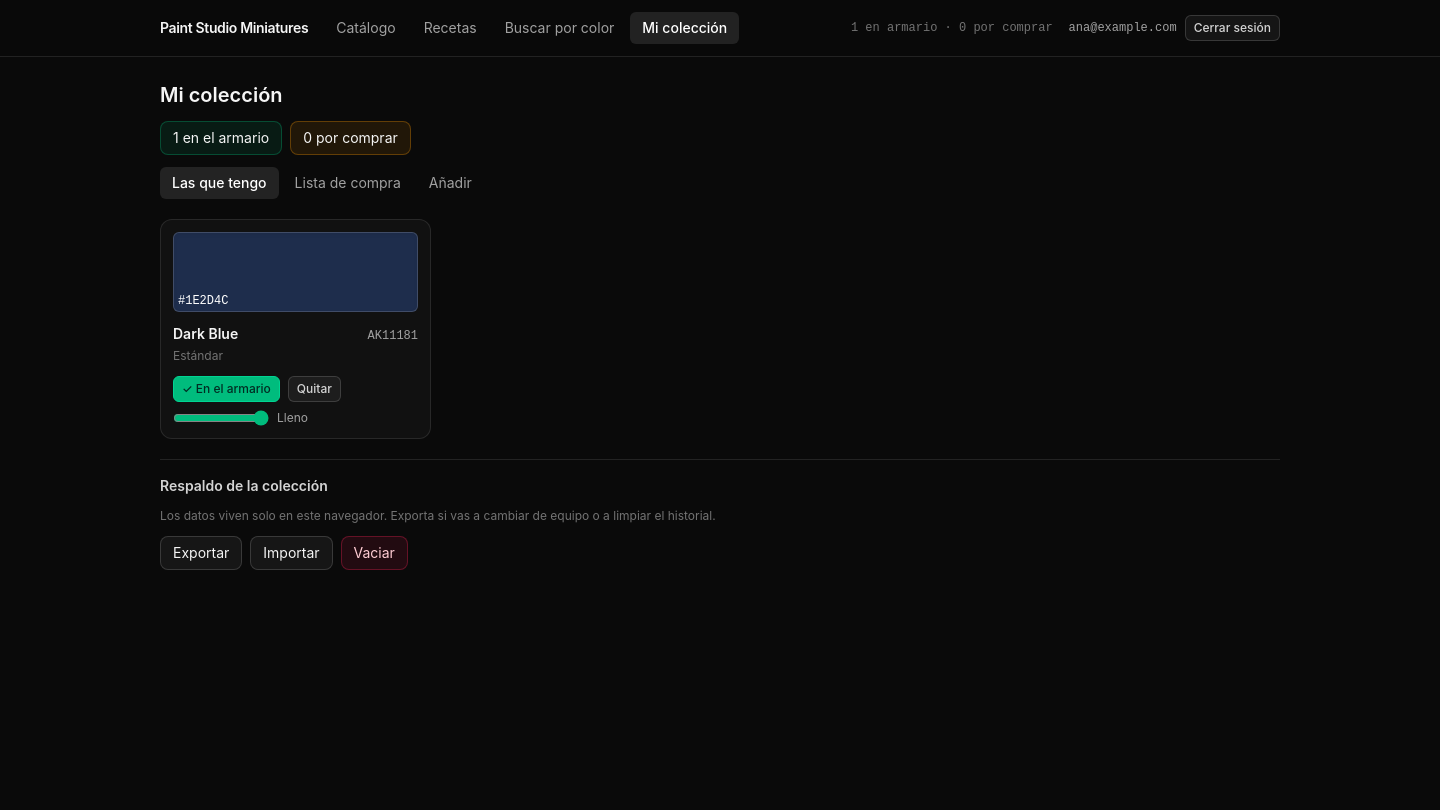
Test case: App con backend › cerrar sesión vuelve a mostrar lo local, intacto
Step 1. Click the button "Cerrar sesión" → (1232, 28), box [1185, 15, 1280, 41]
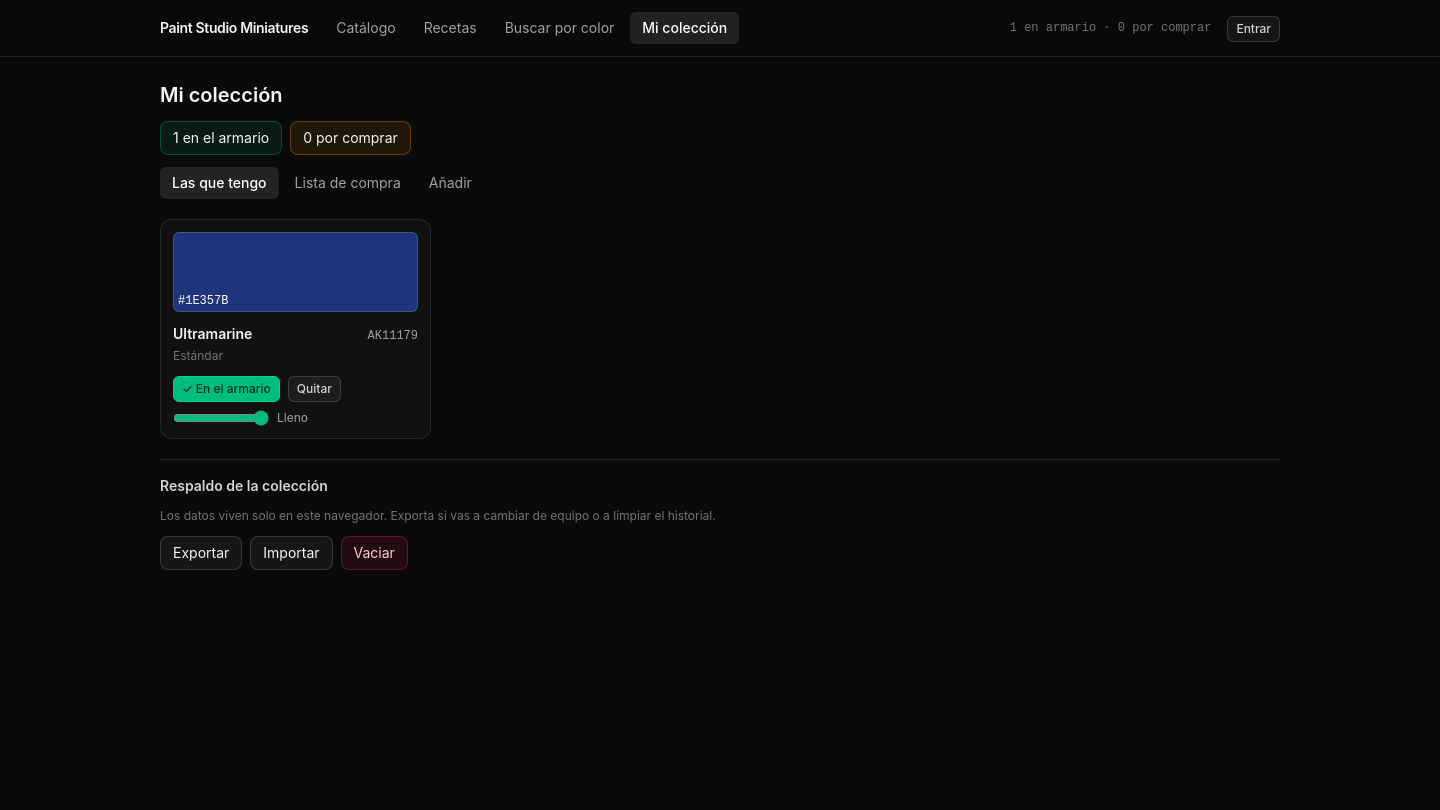
Check: the button "Entrar" is shown, box [1227, 16, 1280, 42]
Check: the text "Ultramarine" is shown, box [173, 324, 252, 344]
Check: the text "AK11181" is gone
